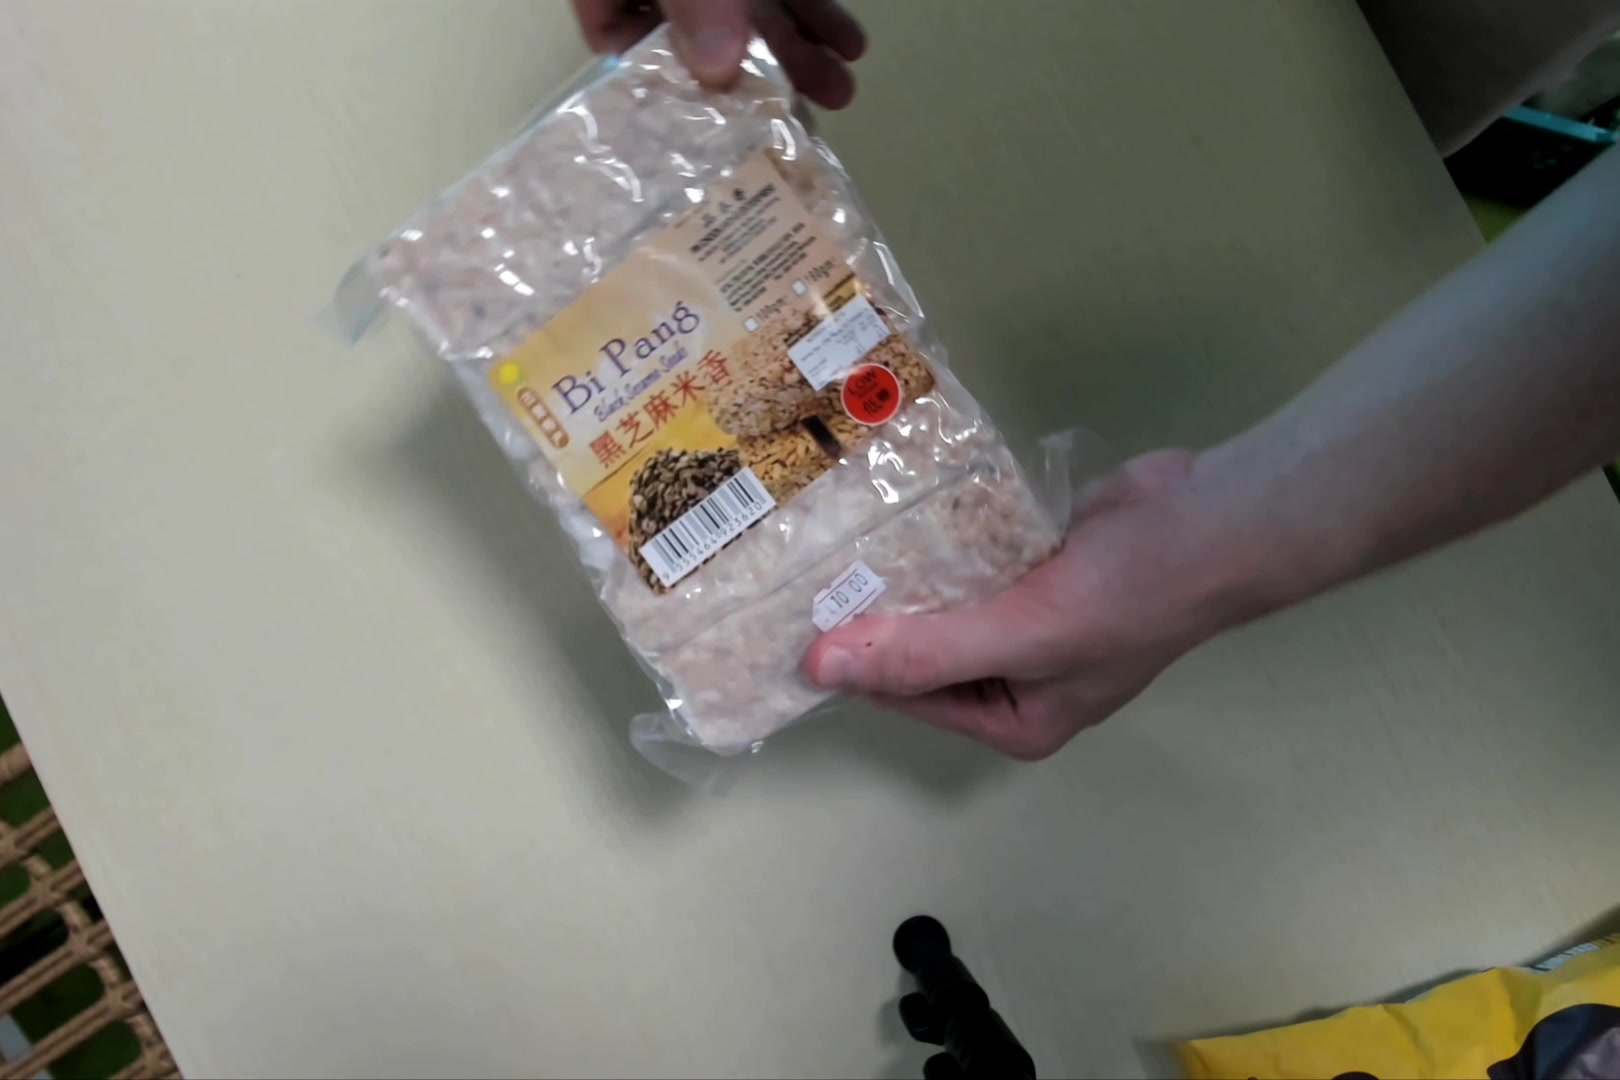PotatoChipsKeropok_100-199g_NonHalal_NonHealthy: (371, 22, 1060, 749)
